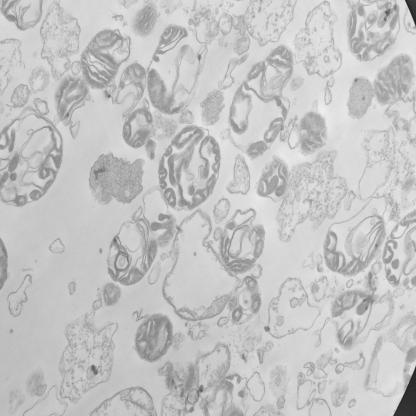mitochondria: (232, 47, 294, 155), (158, 126, 220, 210), (149, 26, 202, 112), (321, 214, 387, 278), (108, 213, 157, 284), (81, 26, 130, 89), (219, 210, 264, 272), (133, 313, 173, 362), (374, 54, 411, 104), (256, 155, 288, 202), (122, 106, 152, 150)
